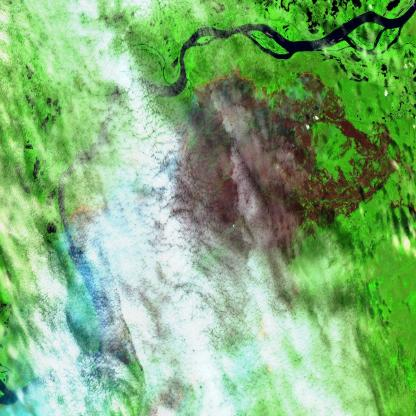fire: (188, 67, 288, 114)
